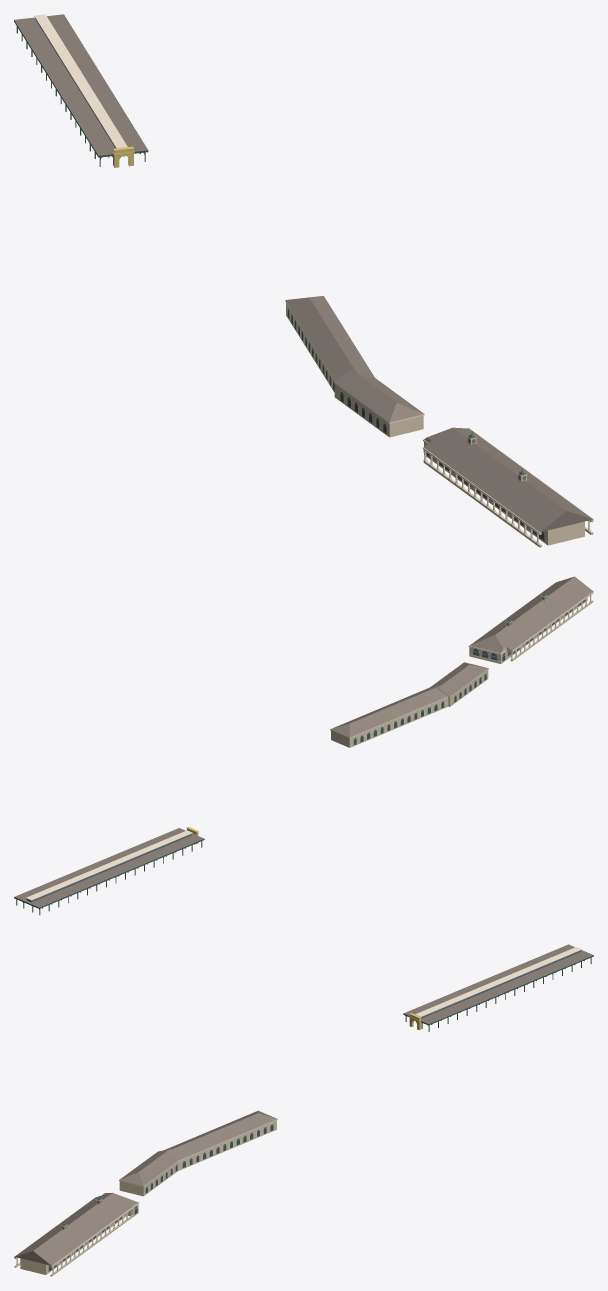
Rendered from nola-french-market.glb.
3 views of the same model, one above another, from view 1: azimuth 30°, elevation 25°; view 2: azimuth 150°, elevation 25°; view 3: azimuth 330°, elevation 25° (orthographic). The views are drawn at different scales.
Visible parts, largest first — view 1: The French Market; view 2: The French Market; view 3: The French Market.
Boxes of the visible parts, x1,y1,x2,y2 form: The French Market: (14, 14, 593, 547); The French Market: (14, 576, 593, 915); The French Market: (14, 944, 593, 1276).
Size of the model in its own units: 63.51 by 13.8 by 408.
